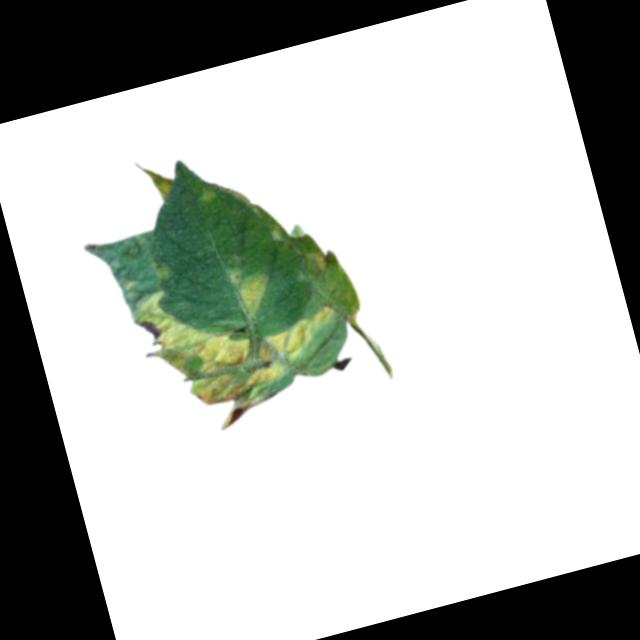Leaf_Mold: (128, 269, 269, 447), (234, 305, 349, 392), (224, 255, 278, 322), (127, 149, 179, 206), (305, 244, 334, 278)
